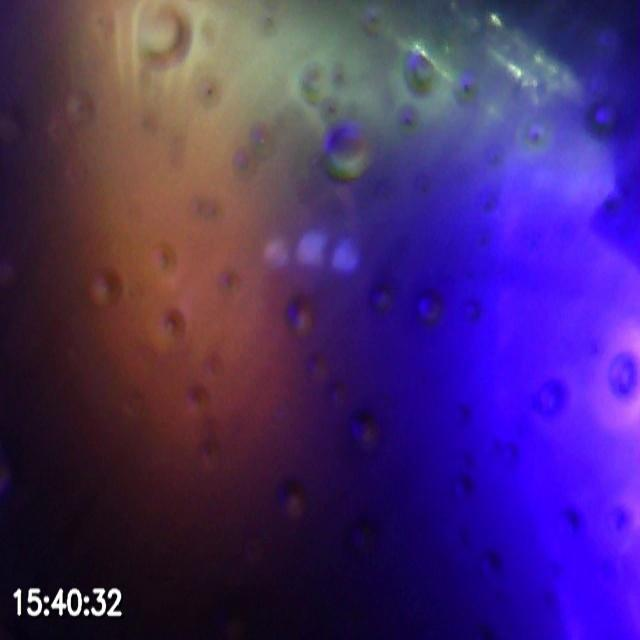white-dots: (259, 228, 362, 275)
